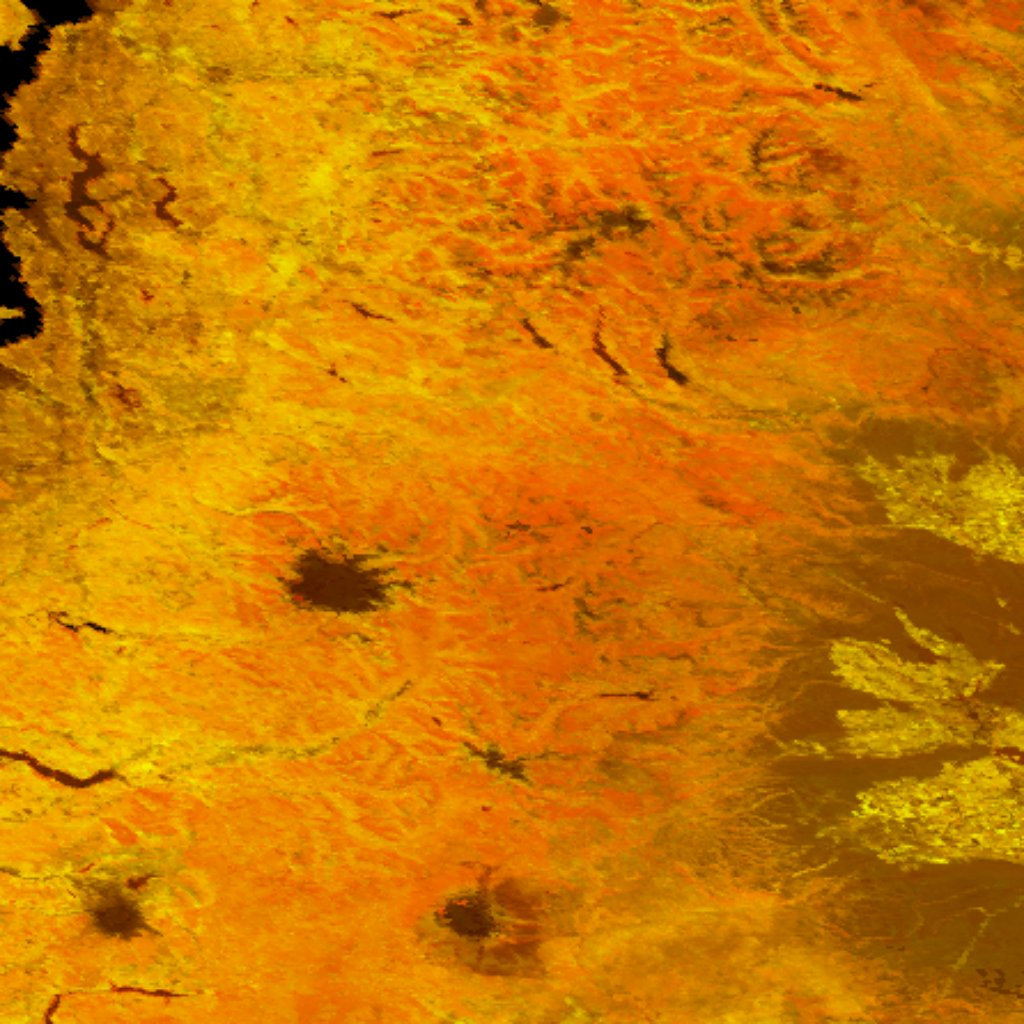fire: (0, 0, 1024, 1024), (0, 0, 40, 51), (0, 305, 26, 319)
